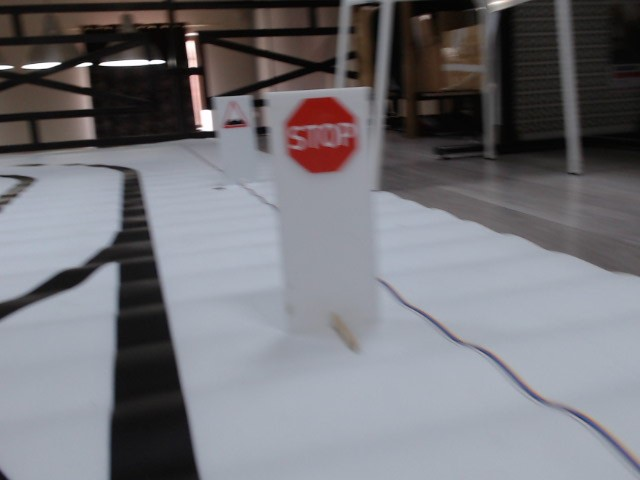Nerov: (219, 101, 249, 130)
Stop: (281, 95, 361, 172)
